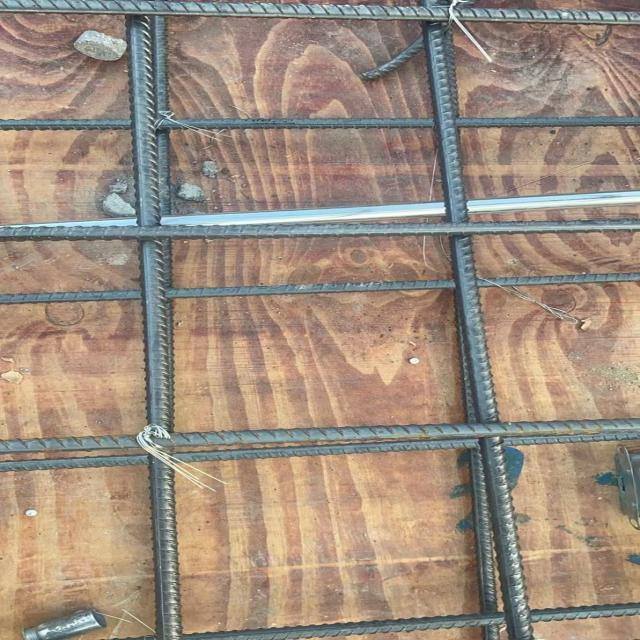ribbed bar: (416, 0, 535, 639), (121, 15, 179, 639), (4, 431, 638, 473), (1, 415, 639, 454), (0, 271, 638, 307), (100, 602, 639, 639), (0, 0, 638, 26), (0, 219, 638, 243), (0, 117, 638, 130), (462, 452, 505, 639)
